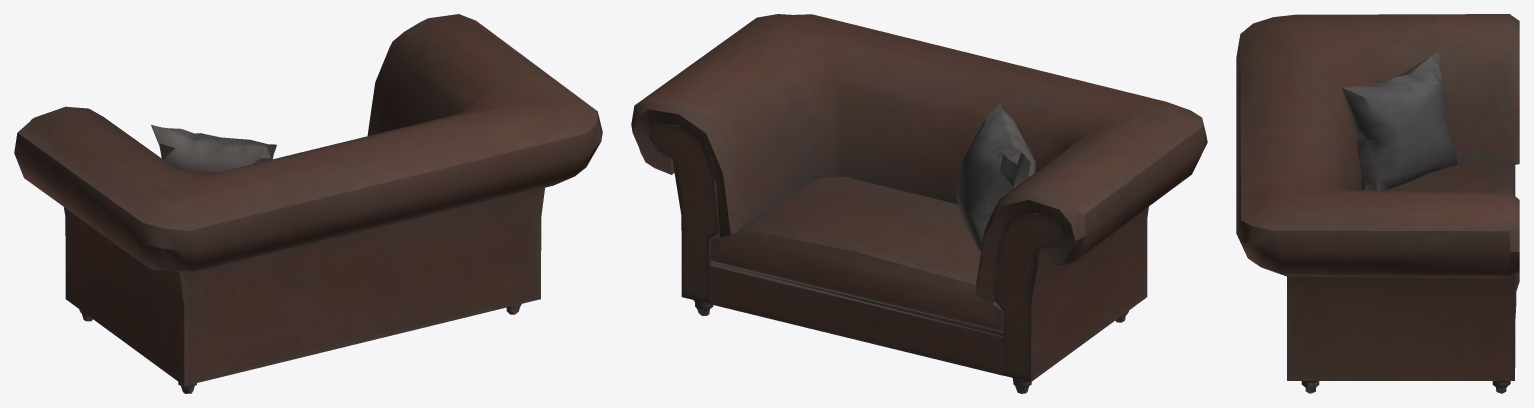
Rendered from settee-leather-2seat.lod1.glb.
The picture shows the model from 3 angles, left to right: view 1: azimuth 30°, elevation 25°; view 2: azimuth 150°, elevation 25°; view 3: azimuth 270°, elevation 25°; orthographic projection. The views are drawn at different scales.
Parts seen in each view (by area): view 1: settee-leather-2seat; view 2: settee-leather-2seat; view 3: settee-leather-2seat.
Part boxes in pixels (x1=…): settee-leather-2seat: x1=14, y1=14, x2=602, y2=393; settee-leather-2seat: x1=631, y1=14, x2=1207, y2=393; settee-leather-2seat: x1=1236, y1=14, x2=1519, y2=393.
Bounding box in the file's own units: 1.68 × 0.7399 × 0.9254.
Materials: 1 (1 with a texture image).
